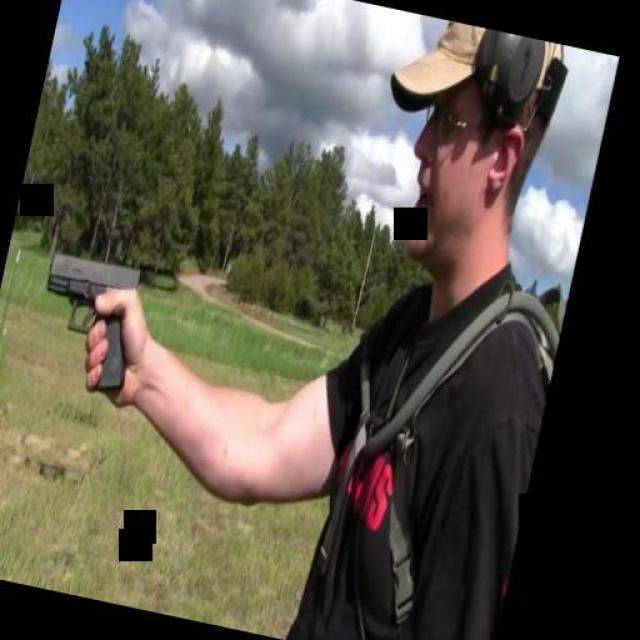gun: (24, 246, 154, 396)
